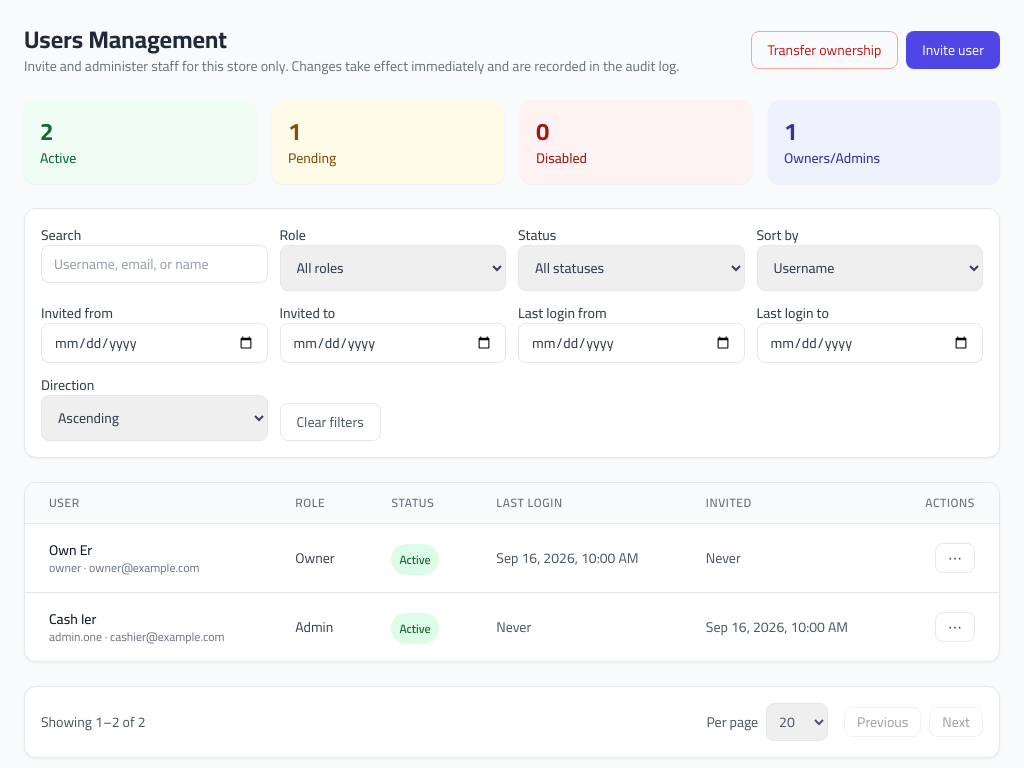
UsersManagementPage mutations › requires a reason to disable and typed confirmation for Admin targets
Later steps or results of the test are not shown.
Expected: the heading "Users Management" is shown, [24,17,227,62]
Click the button "⋯" in the row of "admin.one". click: x=955, y=627
box: [935,612,975,642]
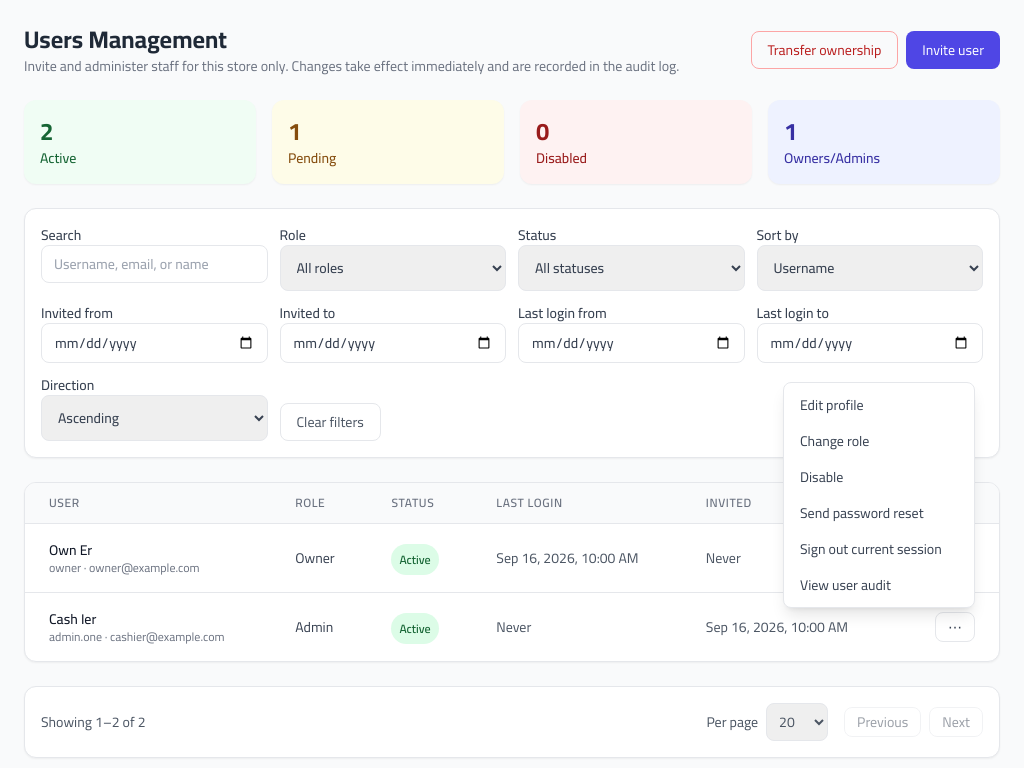
Click the menu item "Disable". click: x=822, y=477
box: [800,464,843,490]
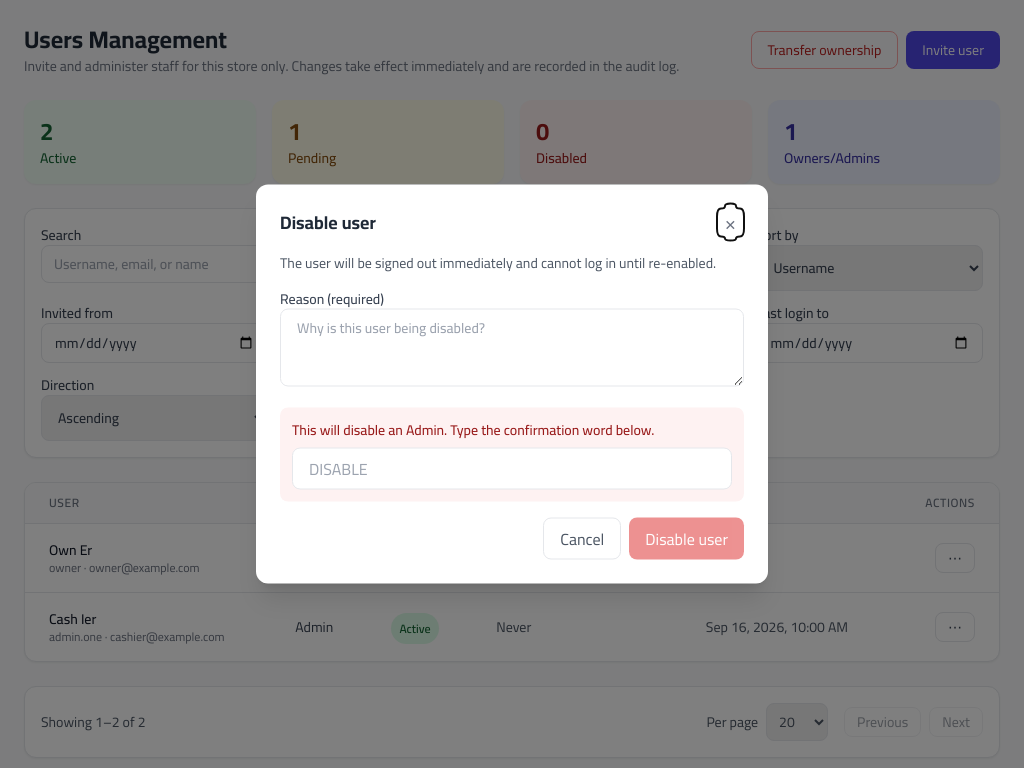
Expected: the button "Disable user" is disabled, [629,518,744,560]
Type "Restructure" into the text box with placeholder "Why is this user being disabled?". click: x=512, y=348
box: [280,308,744,386]
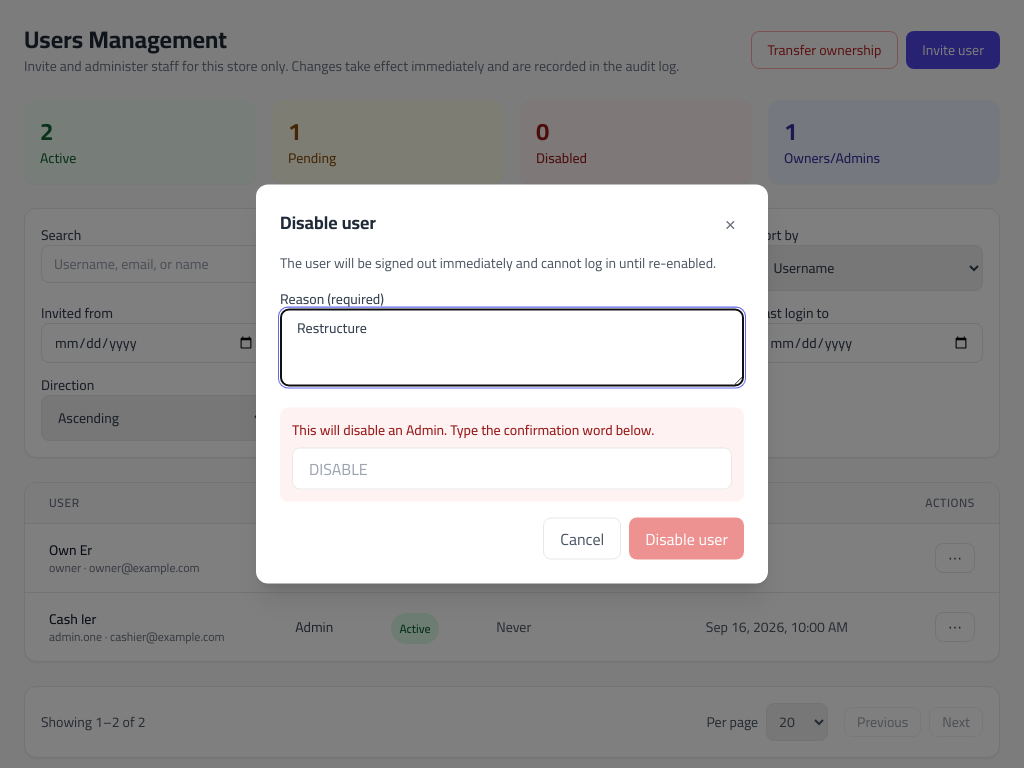
Expected: the button "Disable user" is disabled, [629,518,744,560]
Expected: the text "confirmation word below" is shown, [292,416,654,442]
